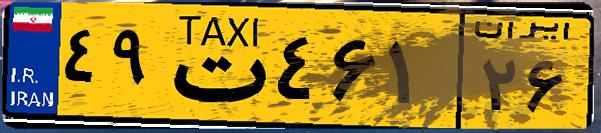1: (385, 28, 445, 110)
2: (475, 38, 525, 113)
4: (270, 28, 330, 110), (57, 26, 110, 100)
6: (330, 28, 385, 110), (525, 38, 570, 115)
9: (110, 28, 158, 98)
ت: (158, 12, 270, 120)
